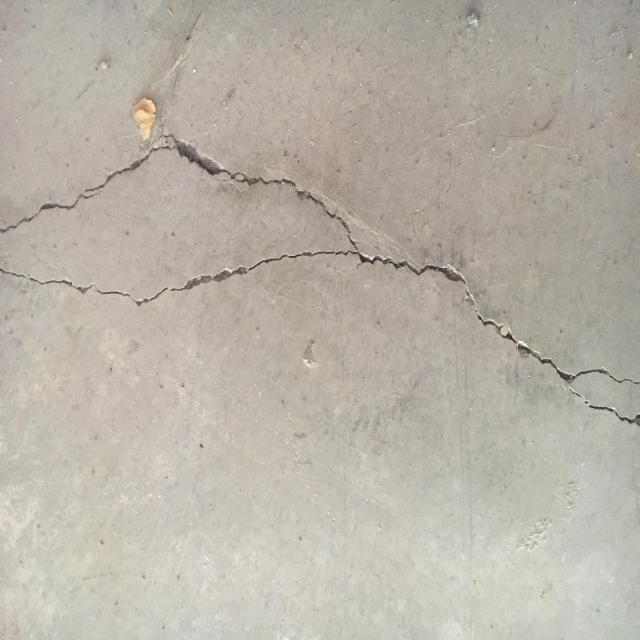Rachadura: (0, 130, 640, 425)
